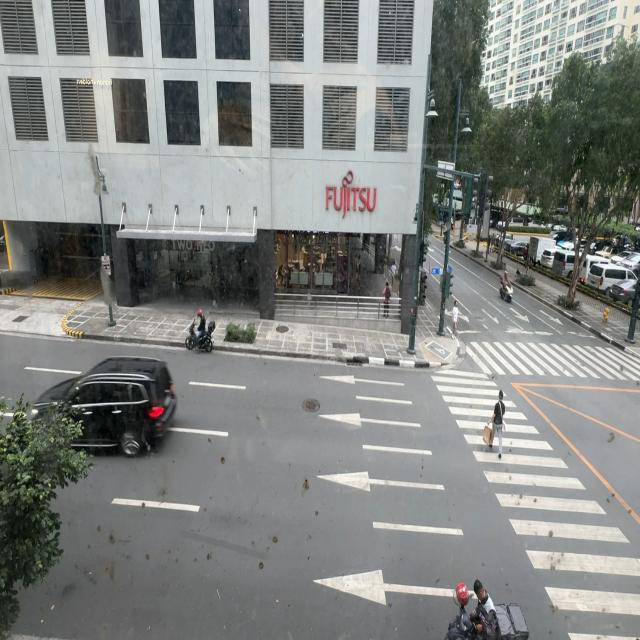crossing: (481, 381, 508, 468)
pedestrain: (382, 282, 392, 318), (390, 260, 398, 290), (355, 255, 361, 283)
waiting: (452, 300, 460, 336)
